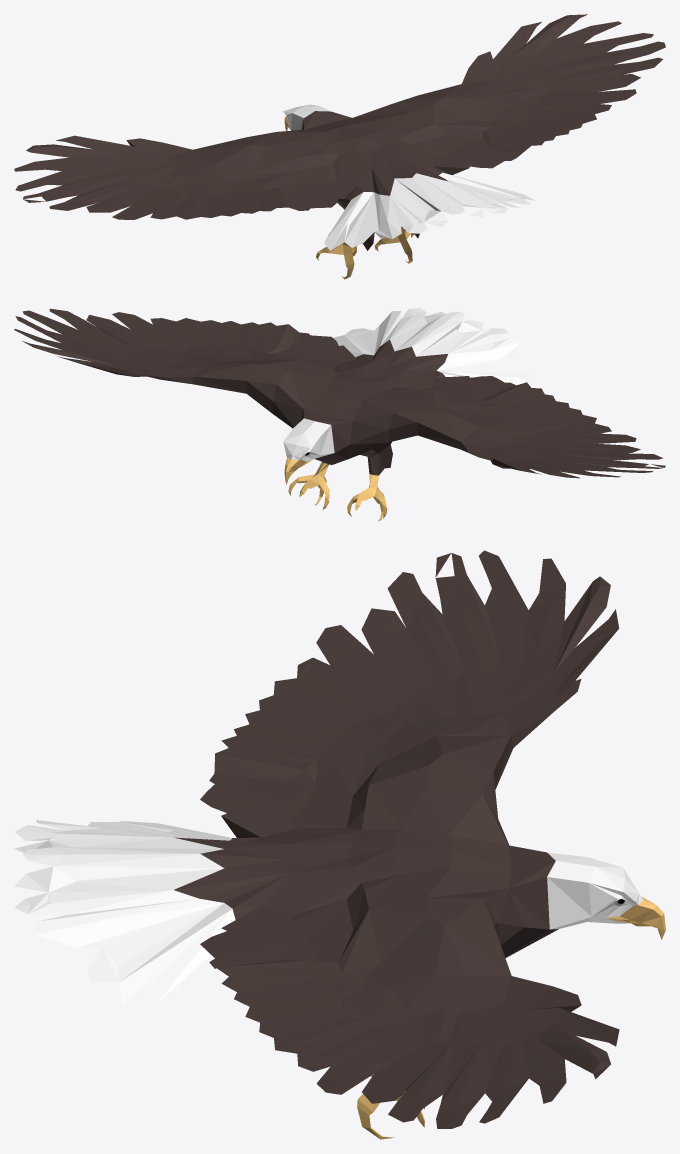
Rendered from adlerFootOut01.dae.
The picture shows the model from 3 angles, top to bottom: view 1: azimuth 30°, elevation 25°; view 2: azimuth 150°, elevation 25°; view 3: azimuth 270°, elevation 25°; orthographic projection. The views are drawn at different scales.
Parts seen in each view (by area): view 1: SketchUp (×5); view 2: SketchUp (×5); view 3: SketchUp (×4).
Boxes of the visible parts, bbox=[...] form: SketchUp (×5): bbox=[15, 14, 665, 279]; SketchUp (×5): bbox=[15, 308, 662, 521]; SketchUp (×4): bbox=[14, 550, 665, 1128].
Size of the model in its own units: 1475 by 706 by 328.
